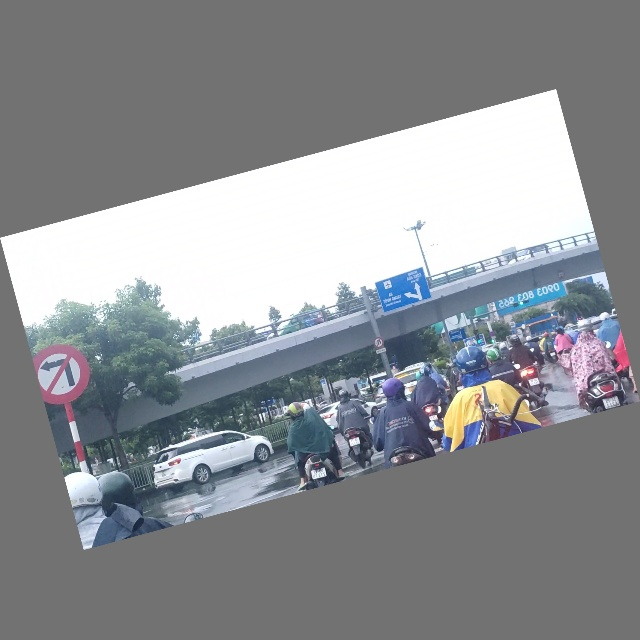P.123b: (30, 338, 98, 411)
P.124b1: (373, 337, 385, 350)
